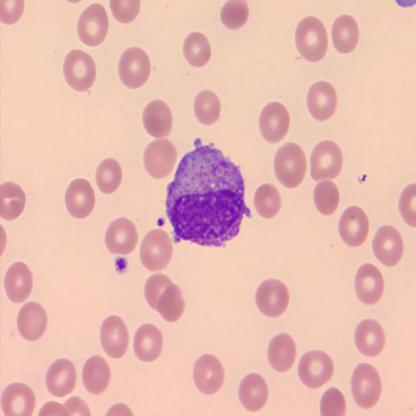Metamyelocyte: (162, 138, 253, 249)
